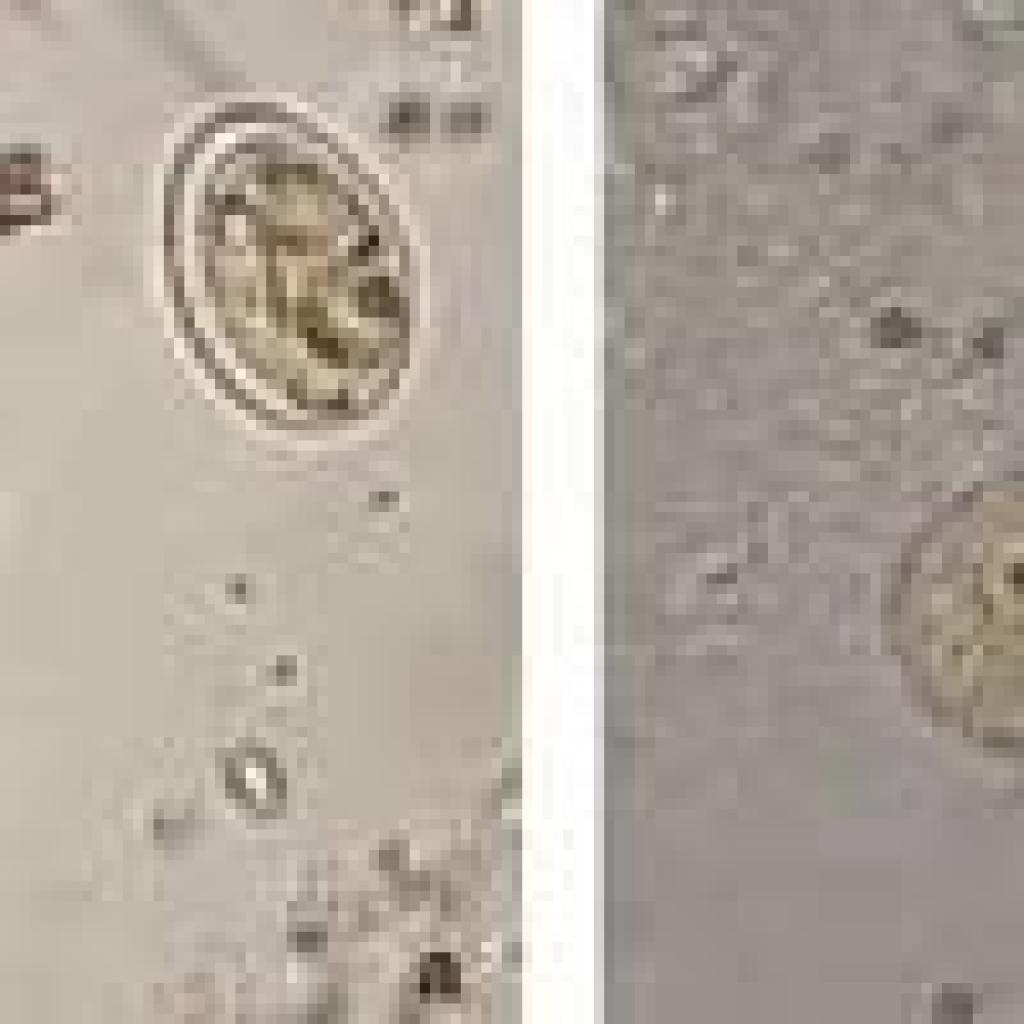Giardia: (154, 92, 430, 430)
